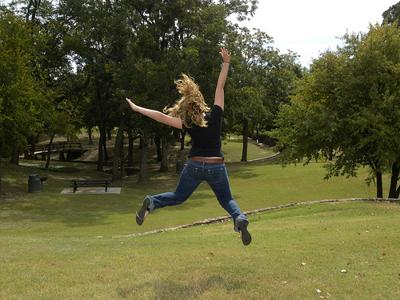person: (126, 46, 256, 248)
